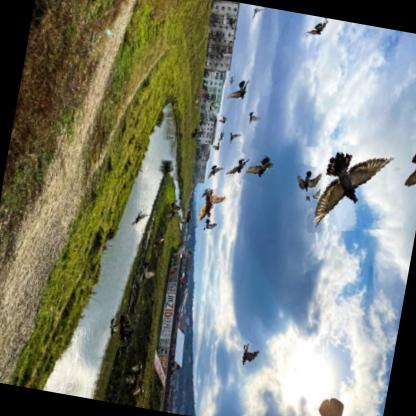bird: (293, 131, 412, 244), (188, 184, 231, 232), (238, 148, 276, 189), (289, 162, 324, 199), (221, 149, 250, 185), (111, 310, 137, 347), (222, 75, 250, 104), (301, 14, 331, 41), (237, 342, 261, 372), (135, 259, 157, 287), (160, 198, 184, 223), (126, 208, 148, 233), (205, 163, 224, 185), (104, 315, 120, 339), (126, 355, 144, 375), (120, 371, 136, 393), (248, 6, 265, 26), (175, 207, 192, 227), (130, 379, 147, 399), (244, 111, 262, 129), (224, 132, 242, 150), (199, 216, 216, 235), (187, 126, 201, 142), (206, 100, 218, 117), (198, 186, 210, 202), (195, 117, 207, 129), (216, 113, 227, 126), (215, 128, 225, 142), (226, 72, 236, 86), (210, 140, 220, 152)
